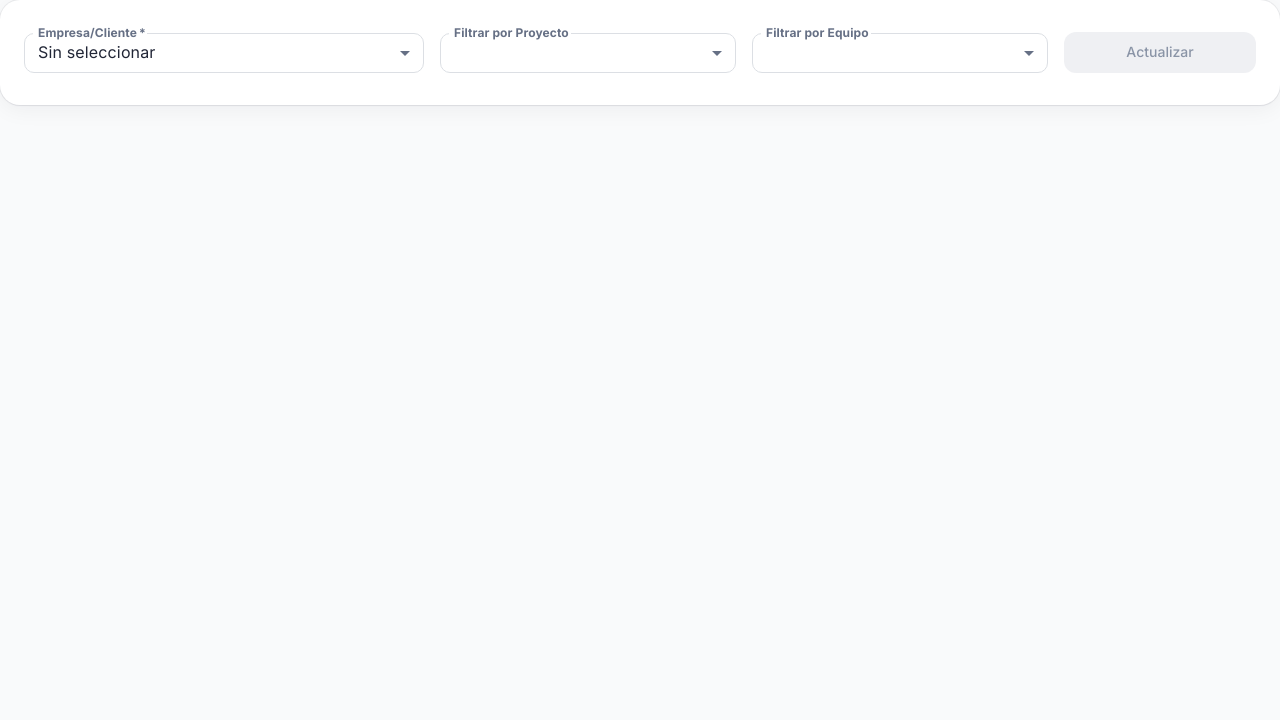
Test: TablaVisualizarEstadoDeCuenta › el detalle desglosa días cobrados y advierte devoluciones anteriores a la remisión
Click the dropdown labelled "Sin seleccionar" at (97, 52), box left=38, top=42, right=156, bottom=62
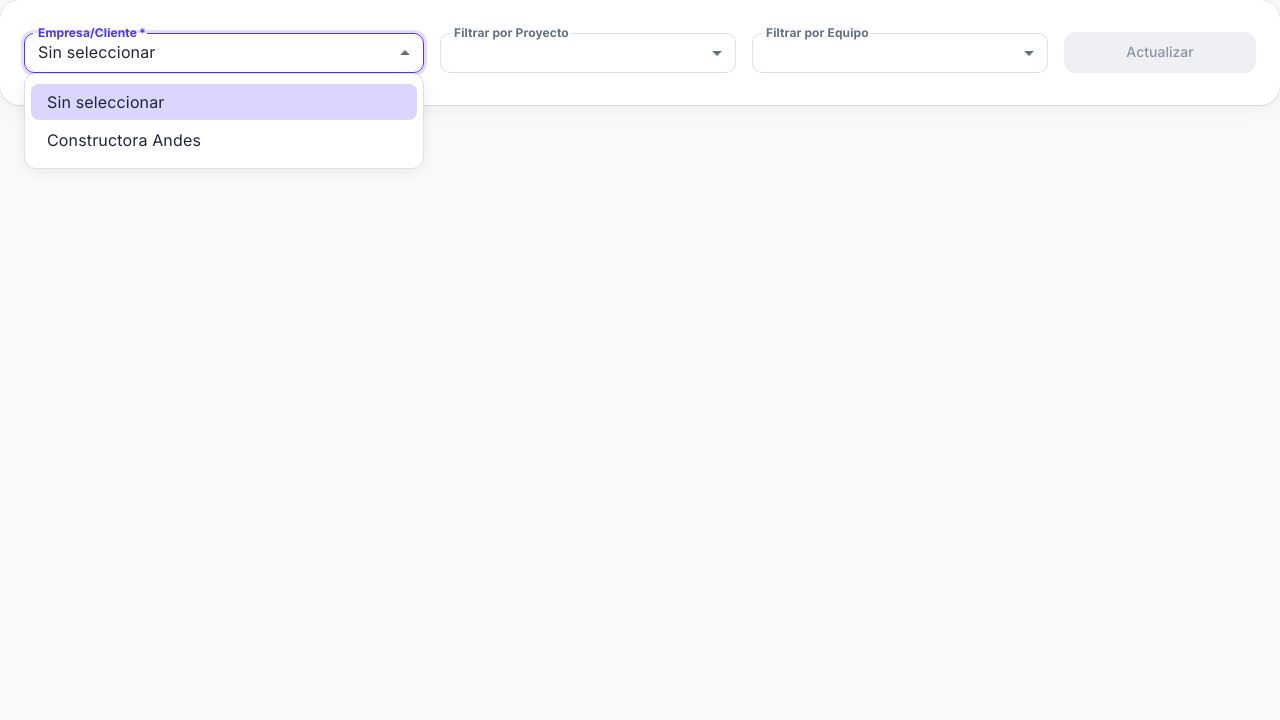
Click the option "Constructora Andes" at (124, 140), box left=47, top=130, right=201, bottom=150
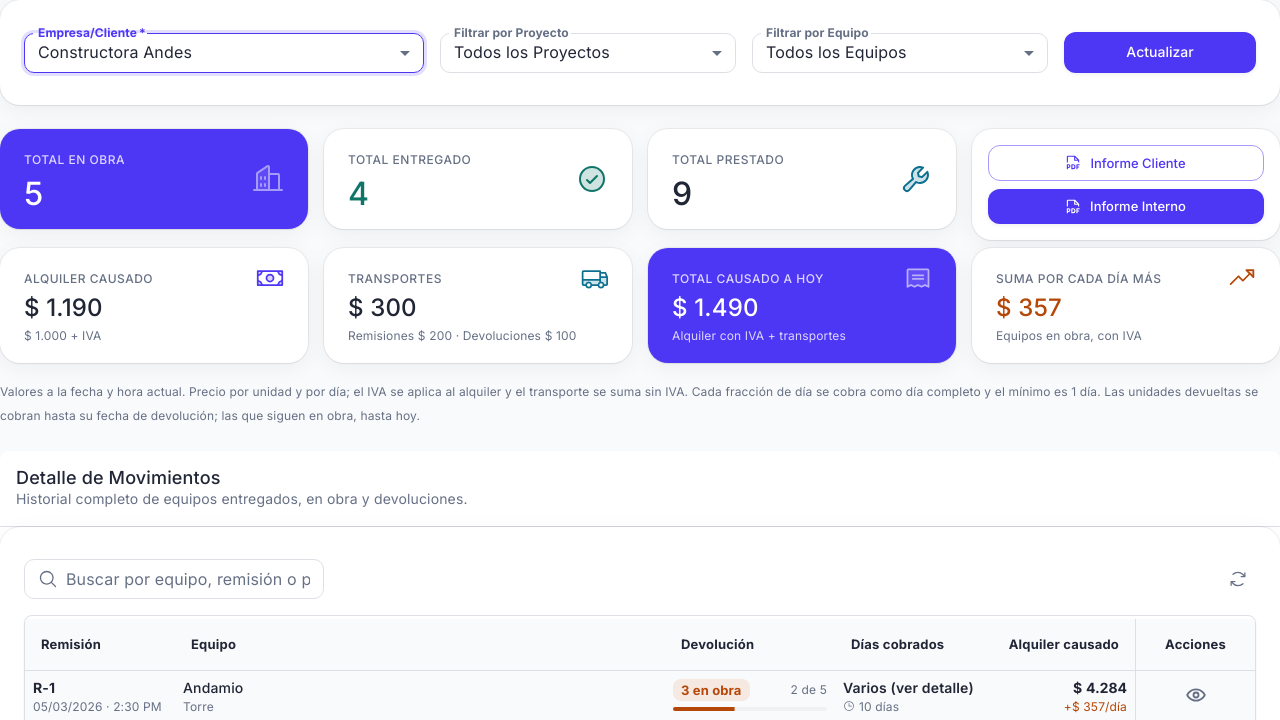
Expected: the list is gone
Click the 5th button at (1196, 695), box left=1180, top=680, right=1210, bottom=710
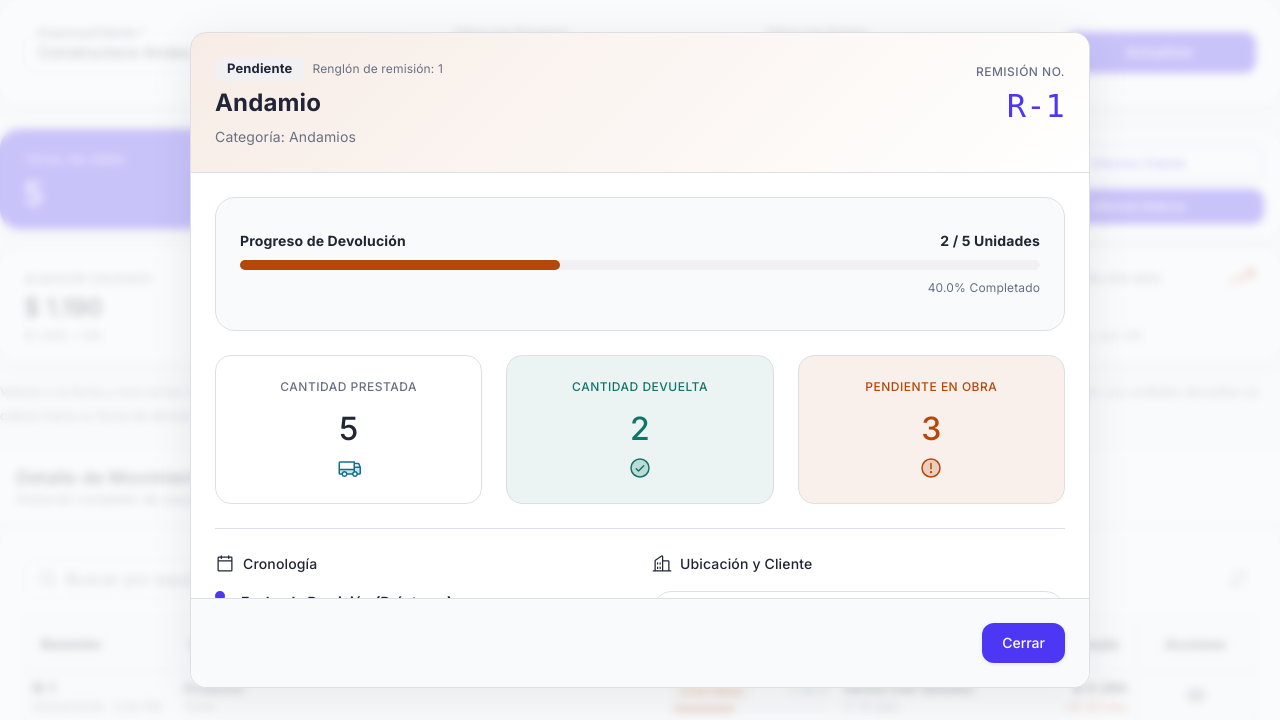
Expected: the text "40.0% Completado" is shown, left=928, top=280, right=1040, bottom=295
Press Escape
Expected: the dialog is shown
Click the button "Cerrar" at (1024, 643), box left=982, top=622, right=1065, bottom=663
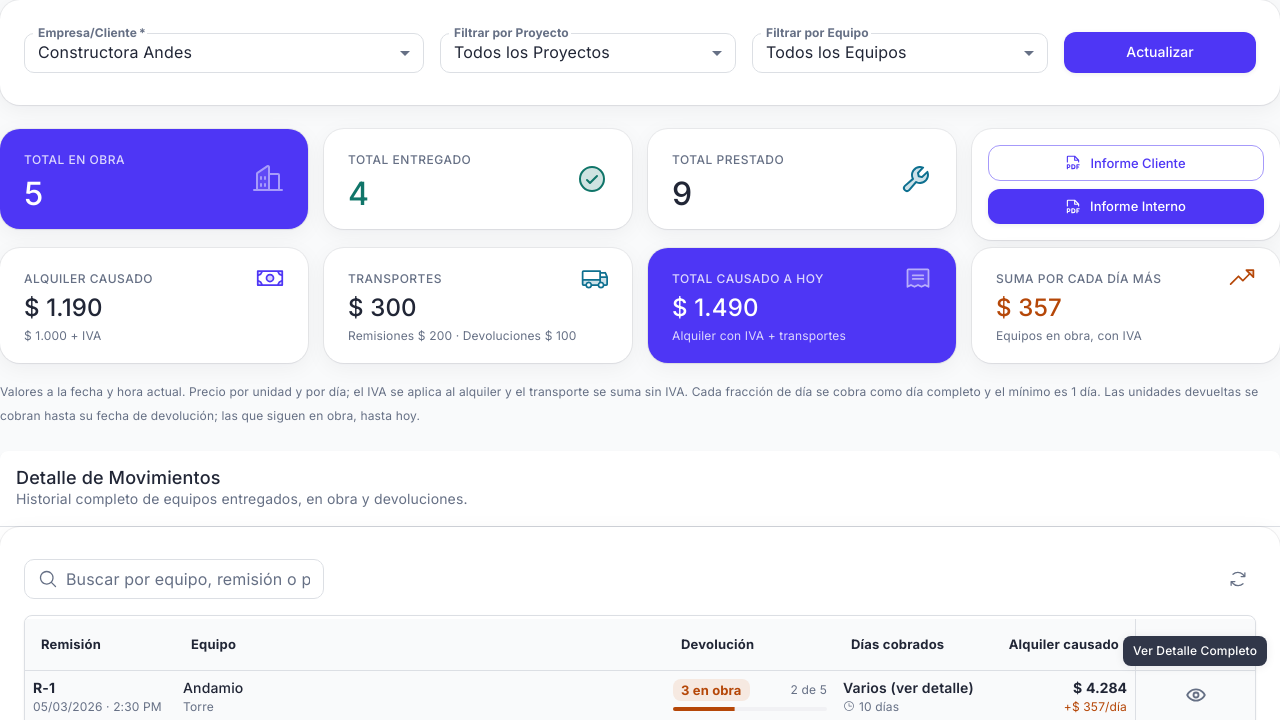
Expected: the dialog is gone
